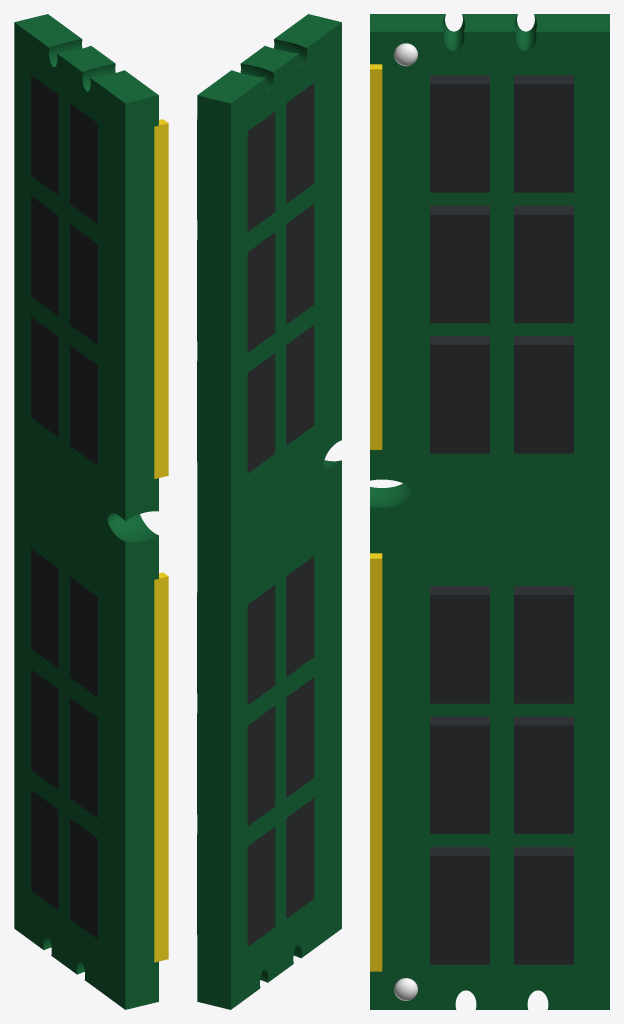
Rendered from DDR3.fbx.
The picture shows the model from 3 angles, left to right: view 1: azimuth 30°, elevation 25°; view 2: azimuth 150°, elevation 25°; view 3: azimuth 270°, elevation 25°; orthographic projection. The views are drawn at different scales.
Parts seen in each view (by area): view 1: obj_0; view 2: obj_0; view 3: obj_0.
Part boxes in pixels (x1,y1,x2,y2): obj_0: [14, 14, 168, 1009]; obj_0: [197, 14, 341, 1009]; obj_0: [370, 14, 609, 1009].
Size of the model in its own units: 0.1334 by 2.29 by 0.508.
